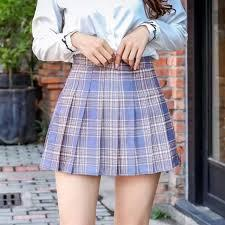skirt: (43, 51, 176, 176)
